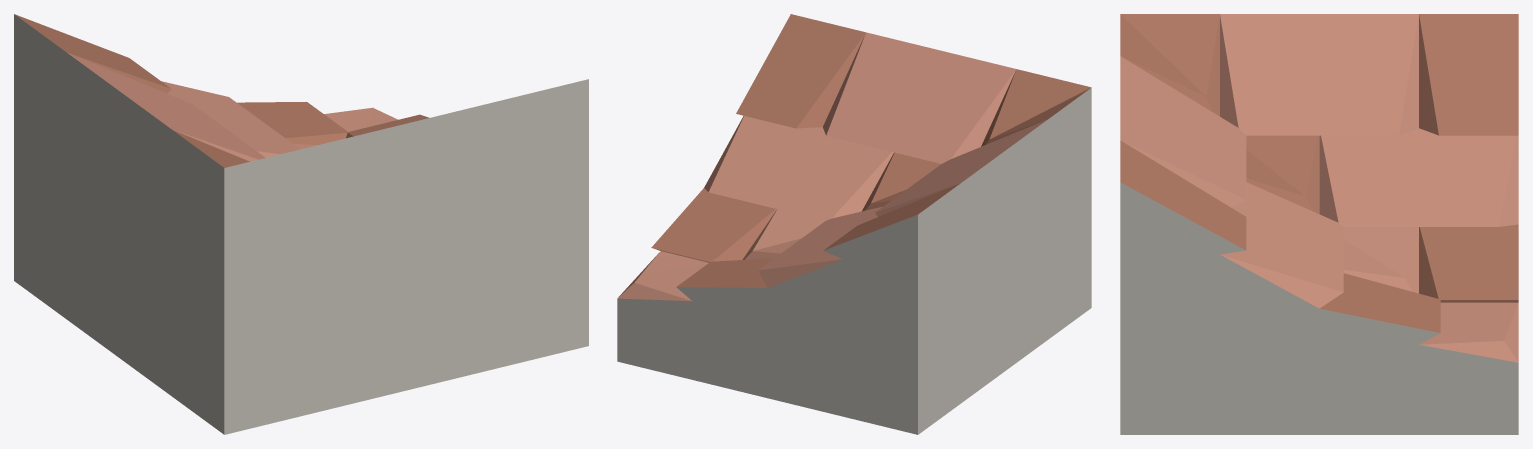
The model's file is Roof_Concave_Corner_Inner.glb.
3 renders of one model, left to right at view 1: azimuth 30°, elevation 25°; view 2: azimuth 150°, elevation 25°; view 3: azimuth 270°, elevation 25°, orthographic. The views are drawn at different scales.
Parts seen in each view (by area): view 1: object1; view 2: object1; view 3: object1.
Part boxes in pixels (<box>): object1: <box>14,14,588,434</box>; object1: <box>617,14,1091,434</box>; object1: <box>1120,14,1518,434</box>.
Bounding box in the file's own units: 1 × 0.7 × 1.
